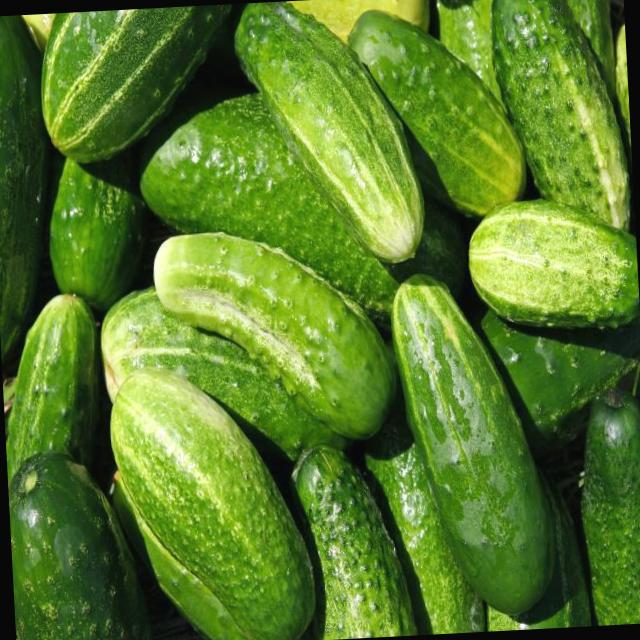Cucumber: (392, 268, 560, 610), (107, 363, 313, 640), (154, 224, 395, 456), (232, 0, 426, 277), (351, 2, 528, 224), (36, 5, 246, 166), (492, 0, 634, 238), (6, 452, 147, 640), (291, 442, 421, 639), (467, 194, 640, 335), (44, 154, 156, 317)
